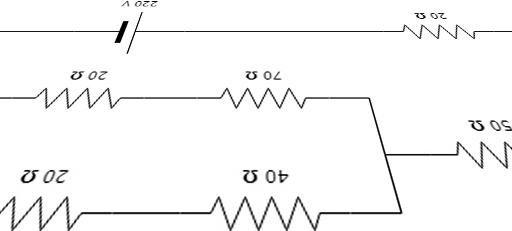resistor: (192, 182, 334, 230), (28, 74, 140, 121), (210, 77, 314, 120), (385, 12, 479, 57), (0, 189, 95, 230), (443, 131, 511, 181)
